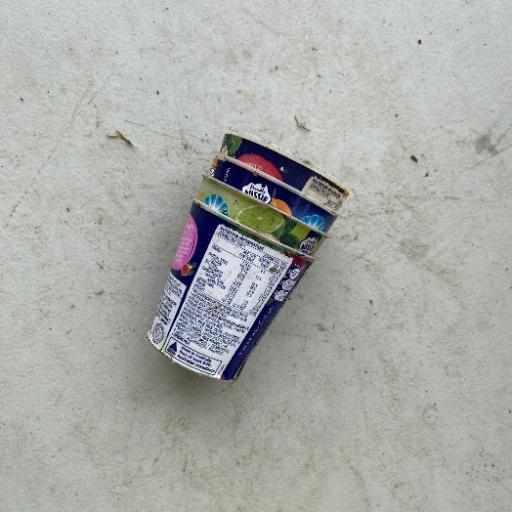Plastic: (144, 126, 352, 384)
